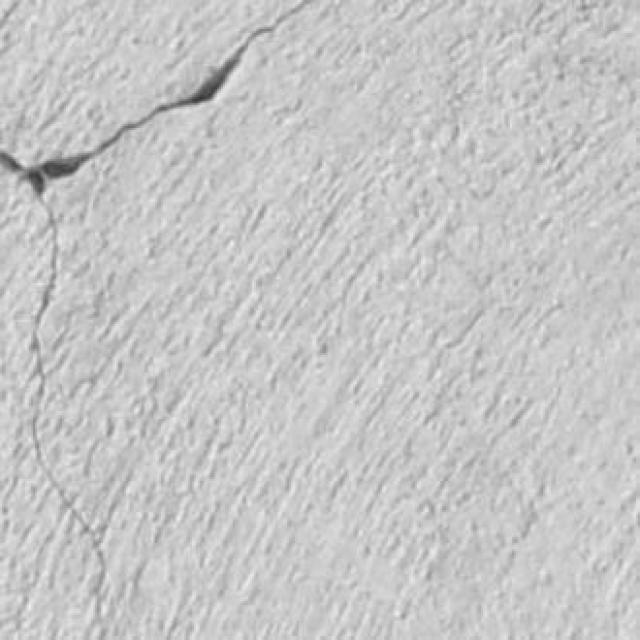crack: (0, 0, 316, 638), (10, 0, 314, 195), (30, 192, 106, 636)
